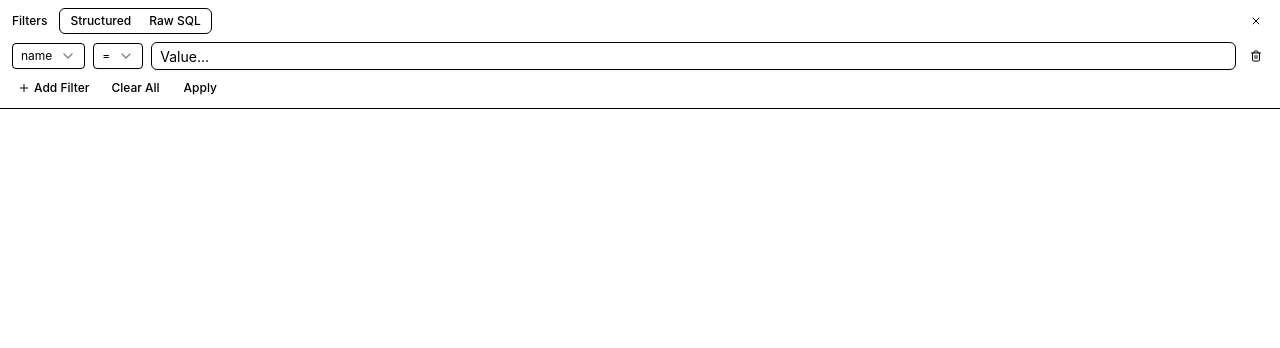
Scenario: FilterBar operator list follows the connected dialect (#2430) › offers ILIKE on PostgreSQL
This screenshot has width=1280, height=348.
Click the dropdown named "Filter operator".
click(118, 56)  # box x1=93 y1=43 x2=143 y2=69
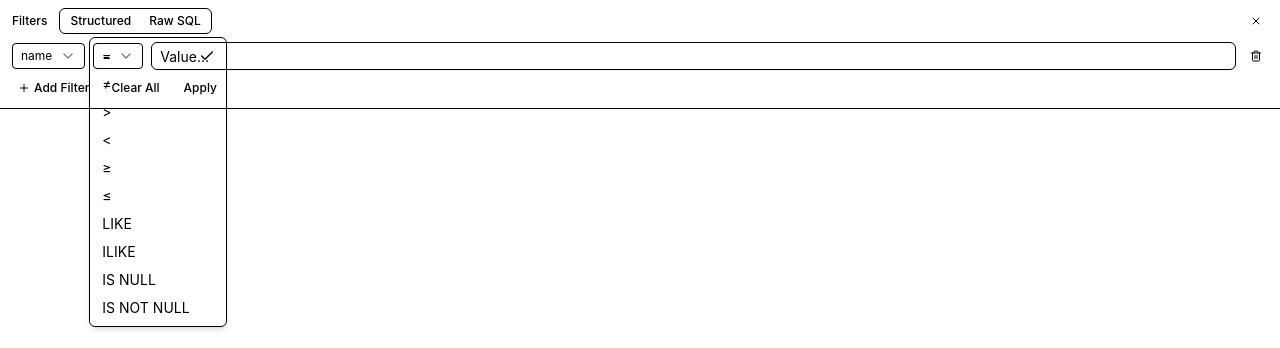
Check: the option "ILIKE" is shown, box x1=102 y1=243 x2=136 y2=260
Check: the option "LIKE" is shown, box x1=102 y1=215 x2=132 y2=232
